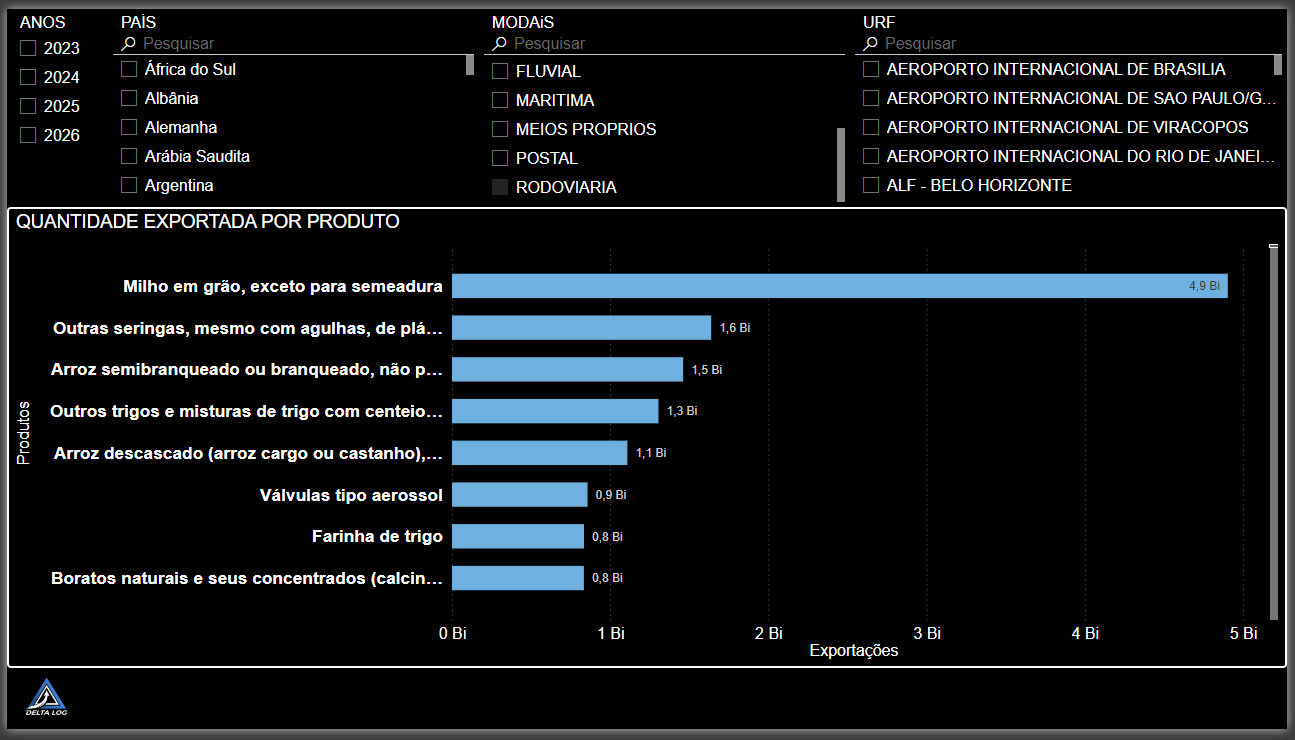

The dashboard page shown, as its layout file describes it:
{"tool":"powerbi","page":{"name":"Exportação","canvas":[1280,720],"ordinal":0},"visuals":[{"type":"slicer","fields":{"Values":["exp_final (2).NO_URF"]},"box":[843.3,0,436.5,198.4],"z":0},{"type":"slicer","fields":{"Values":["exp_final (2).NO_VIA"]},"box":[472,0,371.3,198.4],"z":1000},{"type":"slicer","fields":{"Values":["exp_final (2).CO_ANO"]},"box":[0,0,106.3,198.4],"z":2000},{"type":"barChart","title":"QUANTIDADE EXPORTADA POR PRODUTO","fields":{"Category":["exp_final (2).NO_NCM_POR"],"Y":["Sum(exp_final (2).QT_ESTAT)"]},"box":[0,198.4,1279.8,460.6],"z":3000},{"type":"slicer","fields":{"Values":["exp_final (2).NO_PAIS"]},"box":[100.6,0,371.3,198.4],"z":4000},{"type":"image","box":[0,659.1,78,60.9],"z":5001}]}

Visuals, with their boxes in screenshot pixels (x1, y1, x2, y2), scaled from the page's 1280x720 canvas onto the 1295x740 screenshot:
slicer - exp_final (2).NO_URF: <bbox>853, 0, 1294, 204</bbox>
slicer - exp_final (2).NO_VIA: <bbox>478, 0, 853, 204</bbox>
slicer - exp_final (2).CO_ANO: <bbox>0, 0, 108, 204</bbox>
"QUANTIDADE EXPORTADA POR PRODUTO" barChart: <bbox>0, 204, 1294, 677</bbox>
slicer - exp_final (2).NO_PAIS: <bbox>102, 0, 477, 204</bbox>
image: <bbox>0, 677, 79, 739</bbox>
